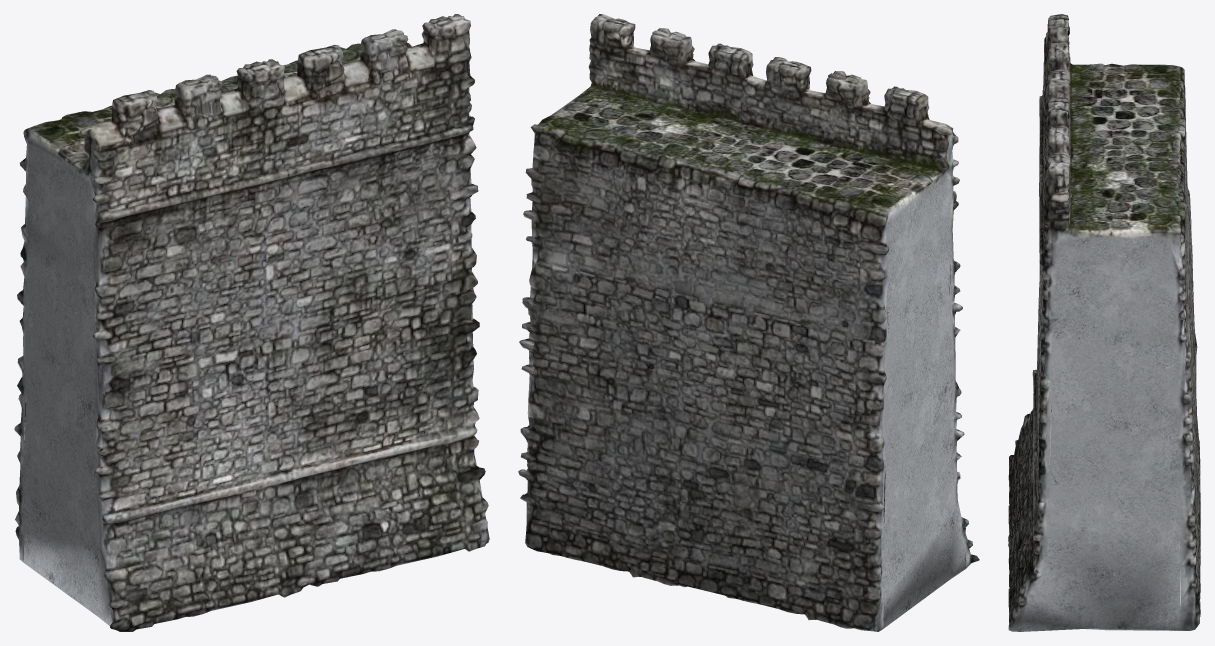
File: muralla.glb
The picture shows the model from 3 angles, left to right: view 1: azimuth 30°, elevation 25°; view 2: azimuth 150°, elevation 25°; view 3: azimuth 270°, elevation 25°; orthographic projection. The views are drawn at different scales.
Visible parts, largest first — view 1: wall_large_wall_large_0, wall_large_wall_large_hide_0; view 2: wall_large_wall_large_0, wall_large_wall_large_hide_0; view 3: wall_large_wall_large_hide_0, wall_large_wall_large_0.
Part boxes in pixels (x1,y1,x2,y2): wall_large_wall_large_0: (14, 14, 489, 631); wall_large_wall_large_hide_0: (23, 144, 111, 625); wall_large_wall_large_0: (518, 14, 979, 631); wall_large_wall_large_hide_0: (882, 179, 966, 628); wall_large_wall_large_hide_0: (1021, 237, 1182, 631); wall_large_wall_large_0: (1008, 14, 1200, 631).
Size of the model in its own units: 10.04 by 12.66 by 4.69.
2 materials, 2 textured.
